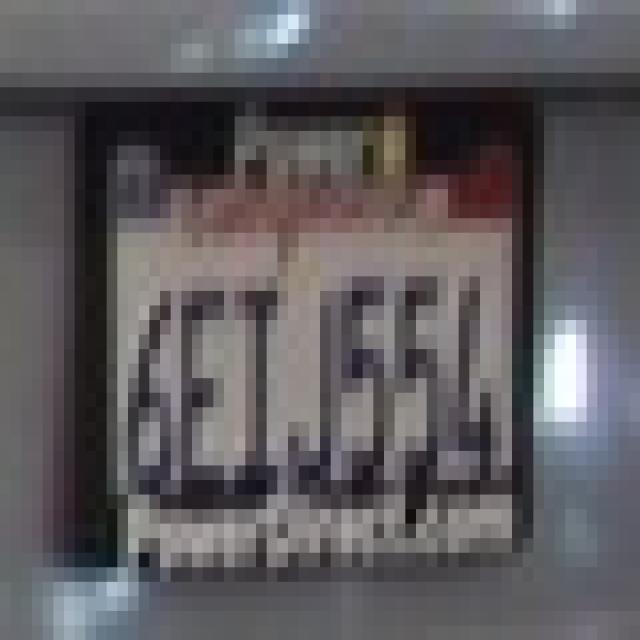licenseplate: (60, 103, 568, 568)
